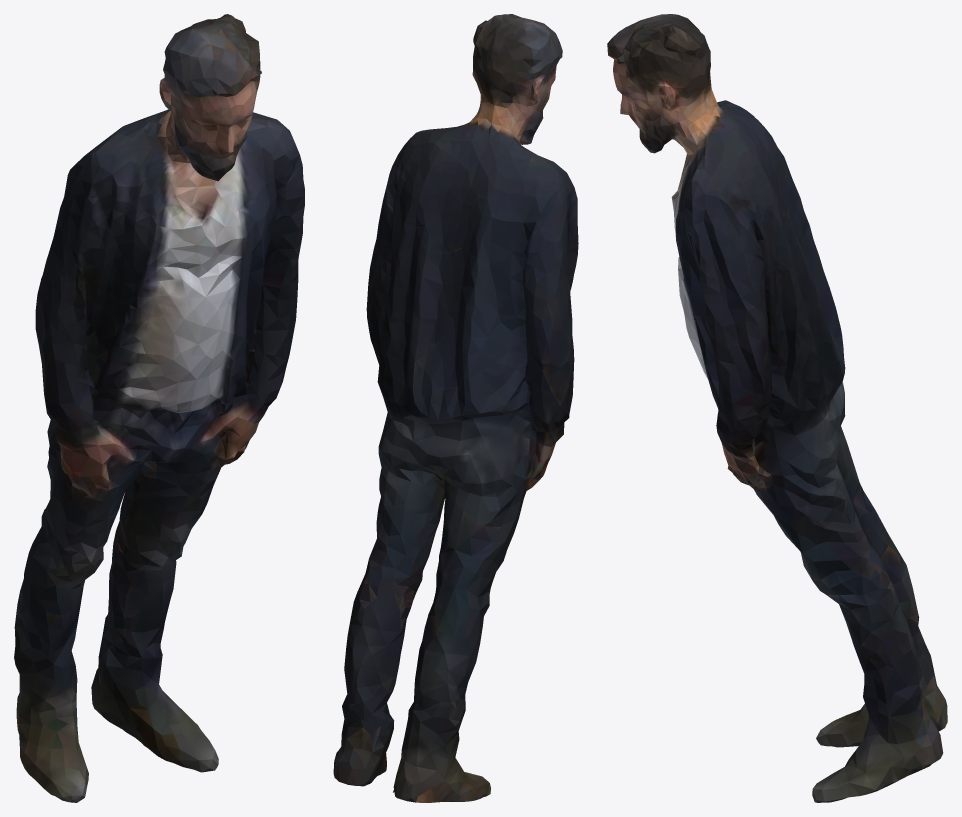
The picture shows the model from 3 angles, left to right: view 1: azimuth 30°, elevation 25°; view 2: azimuth 150°, elevation 25°; view 3: azimuth 270°, elevation 25°; orthographic projection. The views are drawn at different scales.
Visible parts, largest first — view 1: m.obj; view 2: m.obj; view 3: m.obj.
Boxes of the visible parts, bbox=[...] form: m.obj: bbox=[14, 14, 304, 802]; m.obj: bbox=[333, 14, 578, 802]; m.obj: bbox=[607, 14, 947, 802].
Size of the model in its own units: 0.5122 by 1.7 by 0.699.
1 material, 1 textured.
